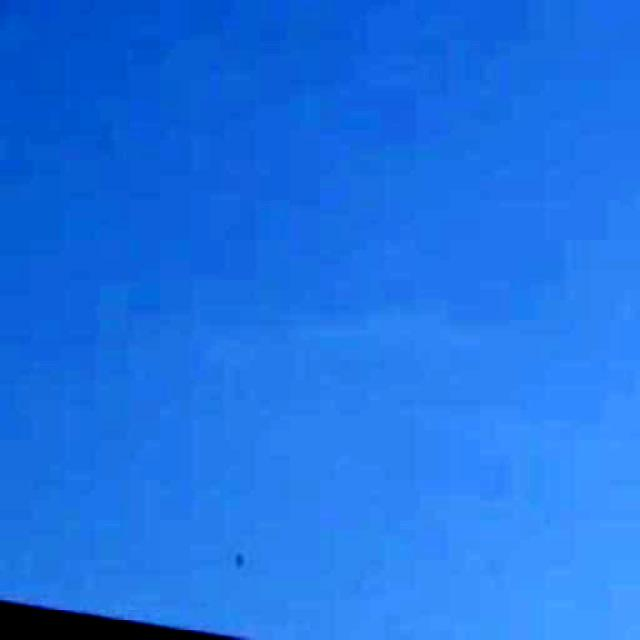drone: (210, 520, 268, 596)
